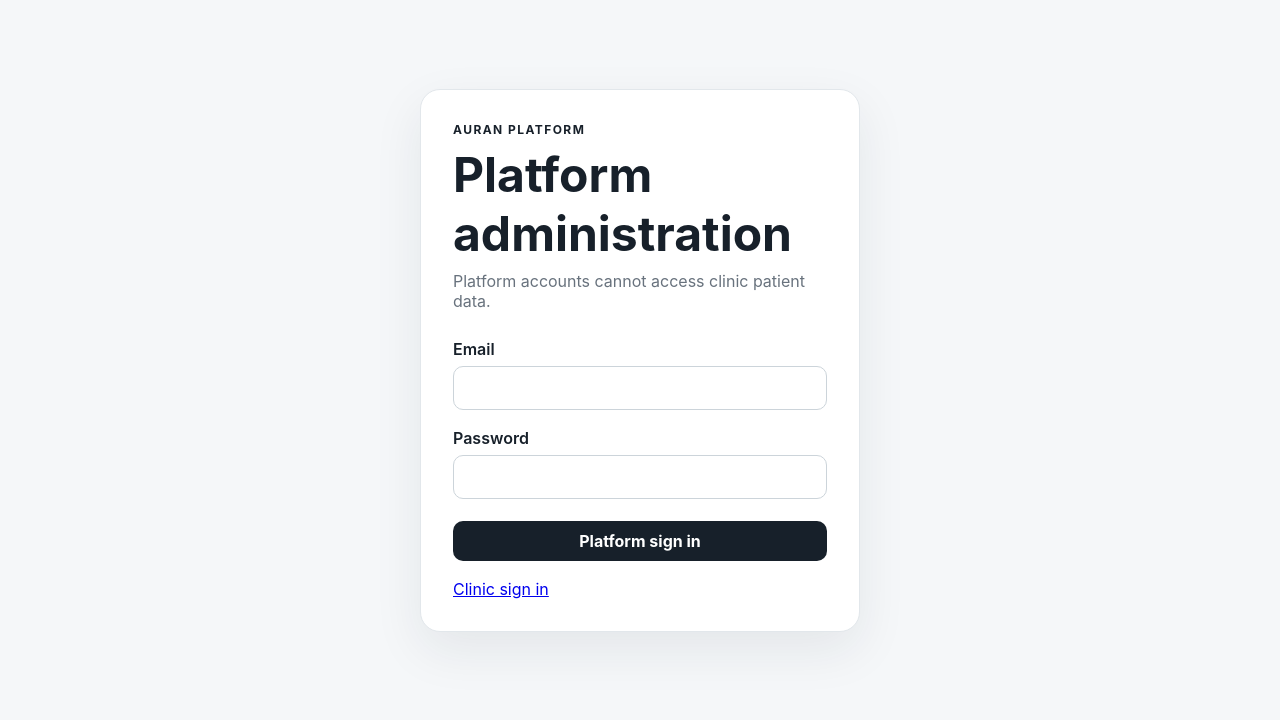
Scenario: Platform actor UI boundary › only loads clinics after platform login and can show clinic status
Type "admin@example.com" into the field labelled "Email" at [640, 388], box x1=453 y1=366 x2=827 y2=410
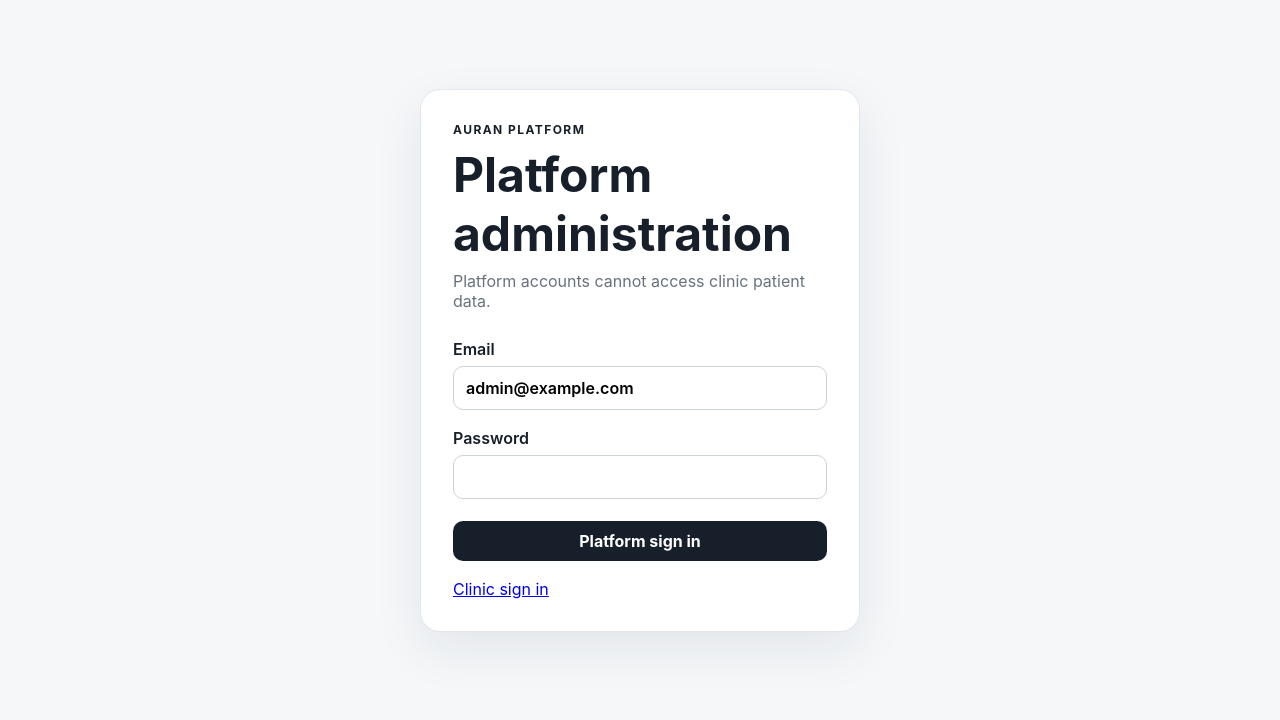
Type "Password123!" into the password field labelled "Password" at [640, 476], box x1=453 y1=454 x2=827 y2=498
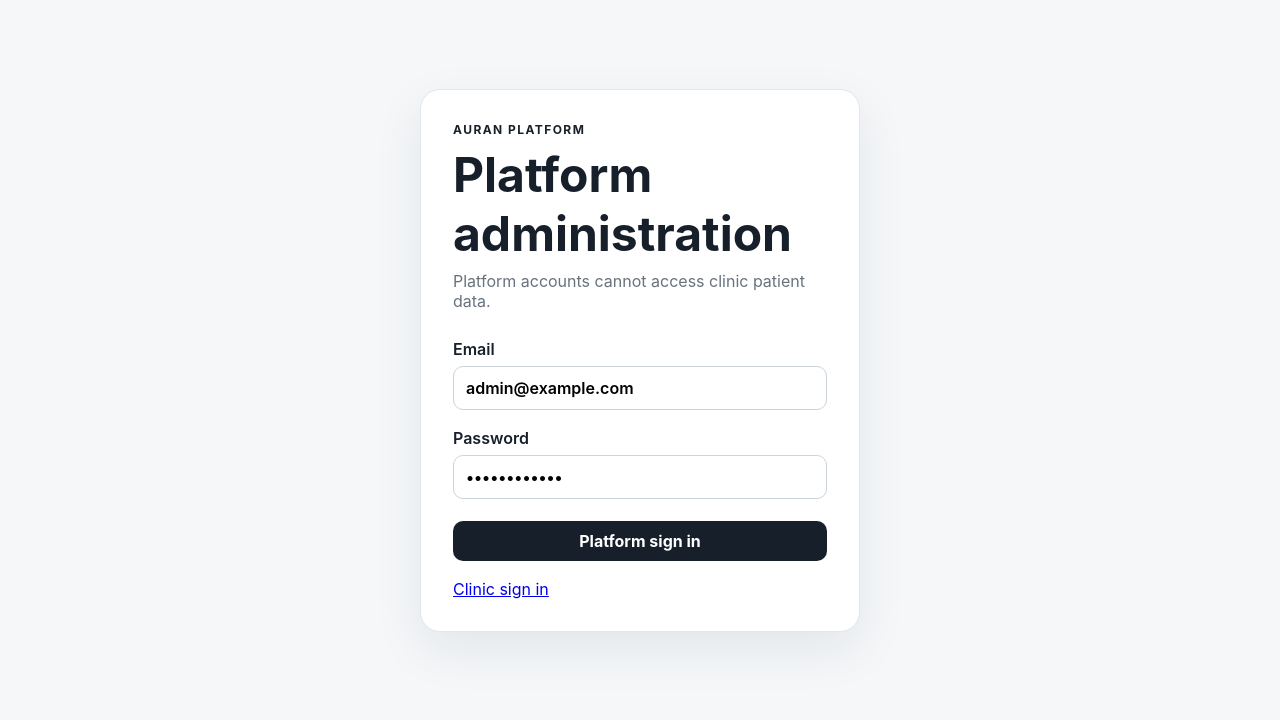
Click the button "Platform sign in" at [640, 540], box x1=453 y1=520 x2=827 y2=560
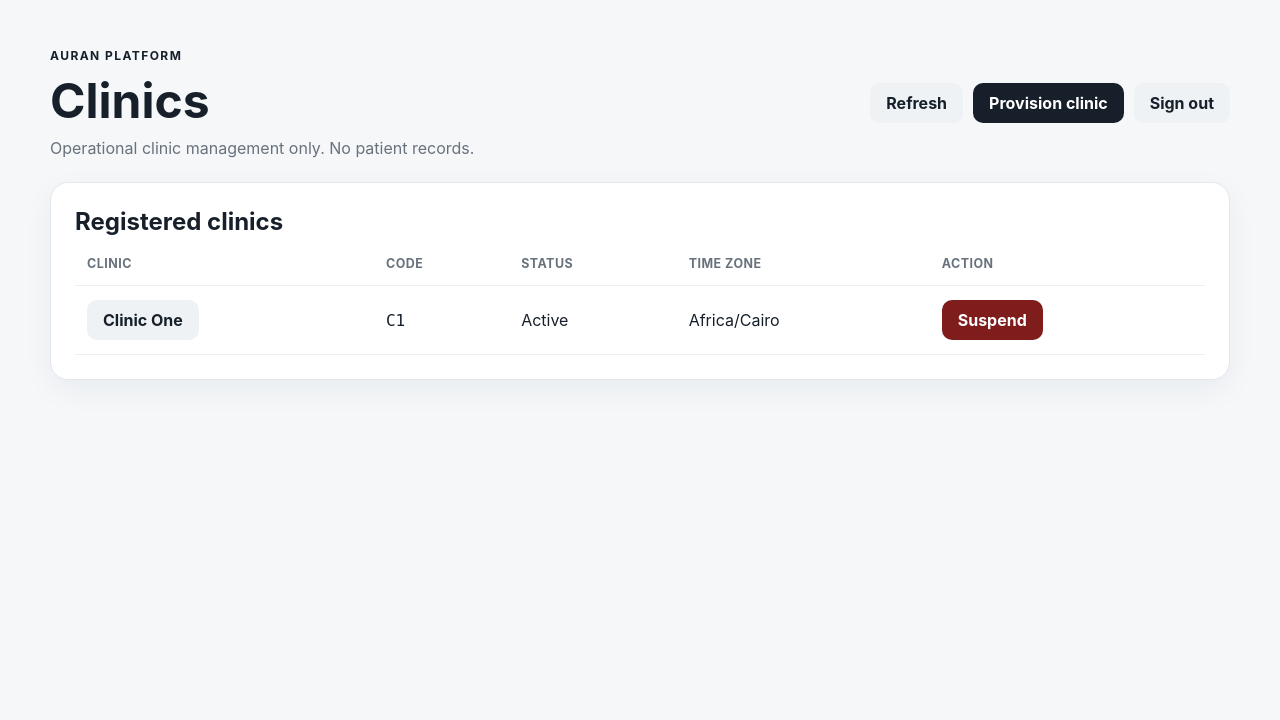
Expected: the button "Clinic One" is shown, x1=87 y1=300 x2=199 y2=340
Expected: the text "Active" is shown, x1=509 y1=286 x2=677 y2=354
